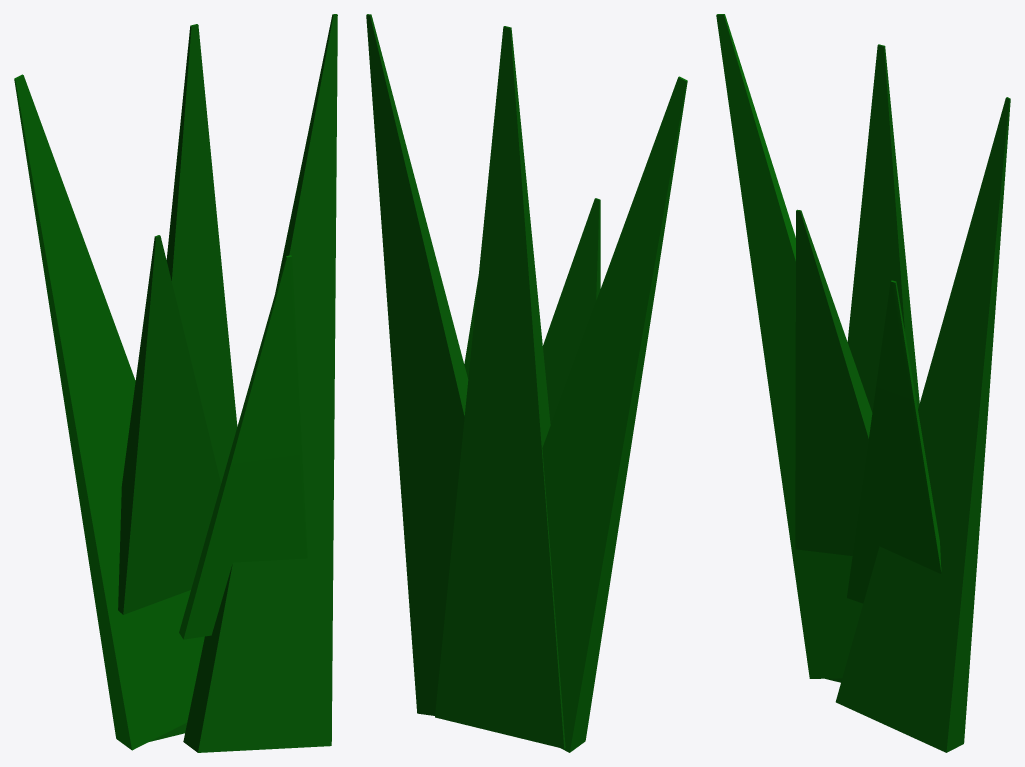
The model's file is Grass1.fbx.
3 renders of one model, left to right at view 1: azimuth 30°, elevation 25°; view 2: azimuth 150°, elevation 25°; view 3: azimuth 330°, elevation 25°, orthographic. The views are drawn at different scales.
Parts seen in each view (by area): view 1: Grass; view 2: Grass; view 3: Grass.
Boxes of the visible parts, x1,y1,x2,y2 form: Grass: (14,14,337,752); Grass: (366,14,687,752); Grass: (716,14,1010,752).
Size of the model in its own units: 2.1 by 4.52 by 0.5734.
